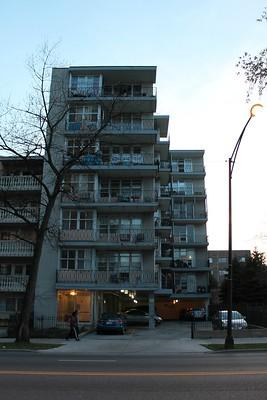building: (42, 54, 218, 334)
